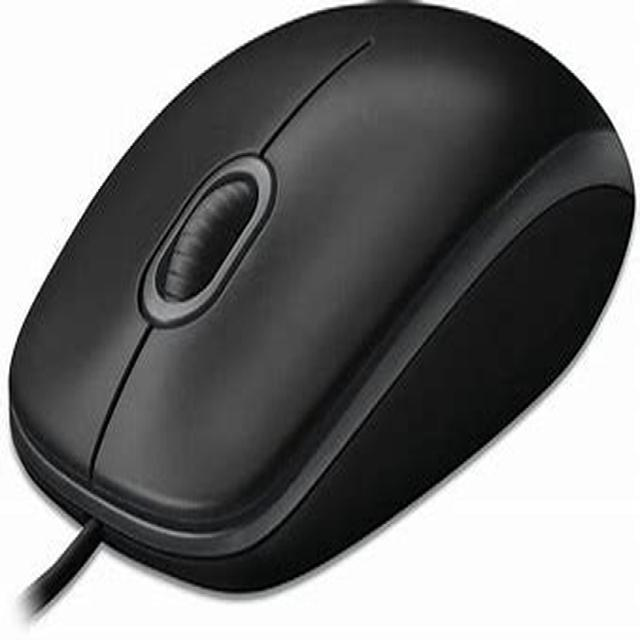mouse: (22, 34, 596, 564)
